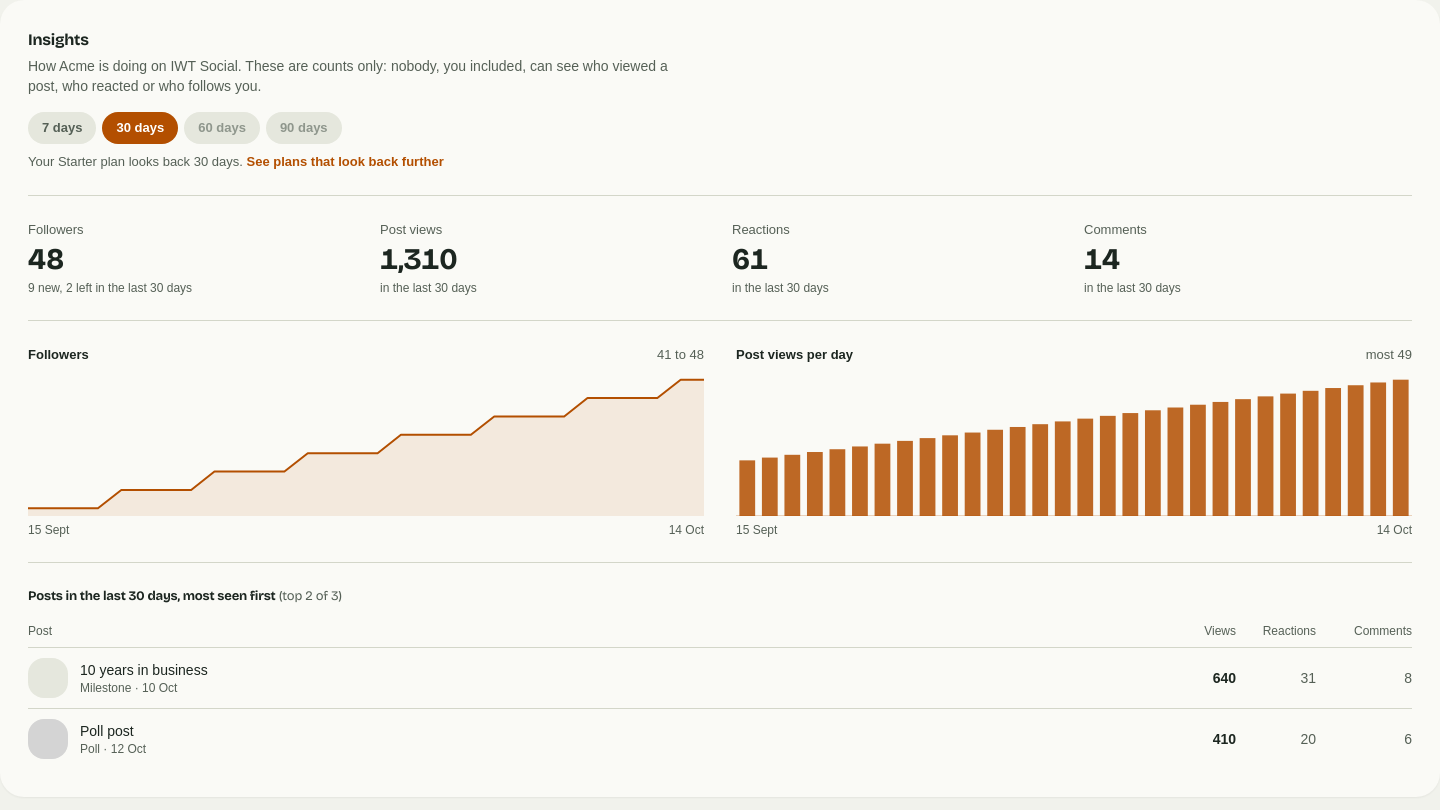
SocialInsightsPanel › reads another period when one the plan covers is picked
expect the text "1,310" is shown: met, box [380, 240, 457, 276]
What coordinates should you click on to do the following:
click the radio button labelled "7 days"
I would click on:
 (62, 128)
Its box is [28, 112, 96, 144].
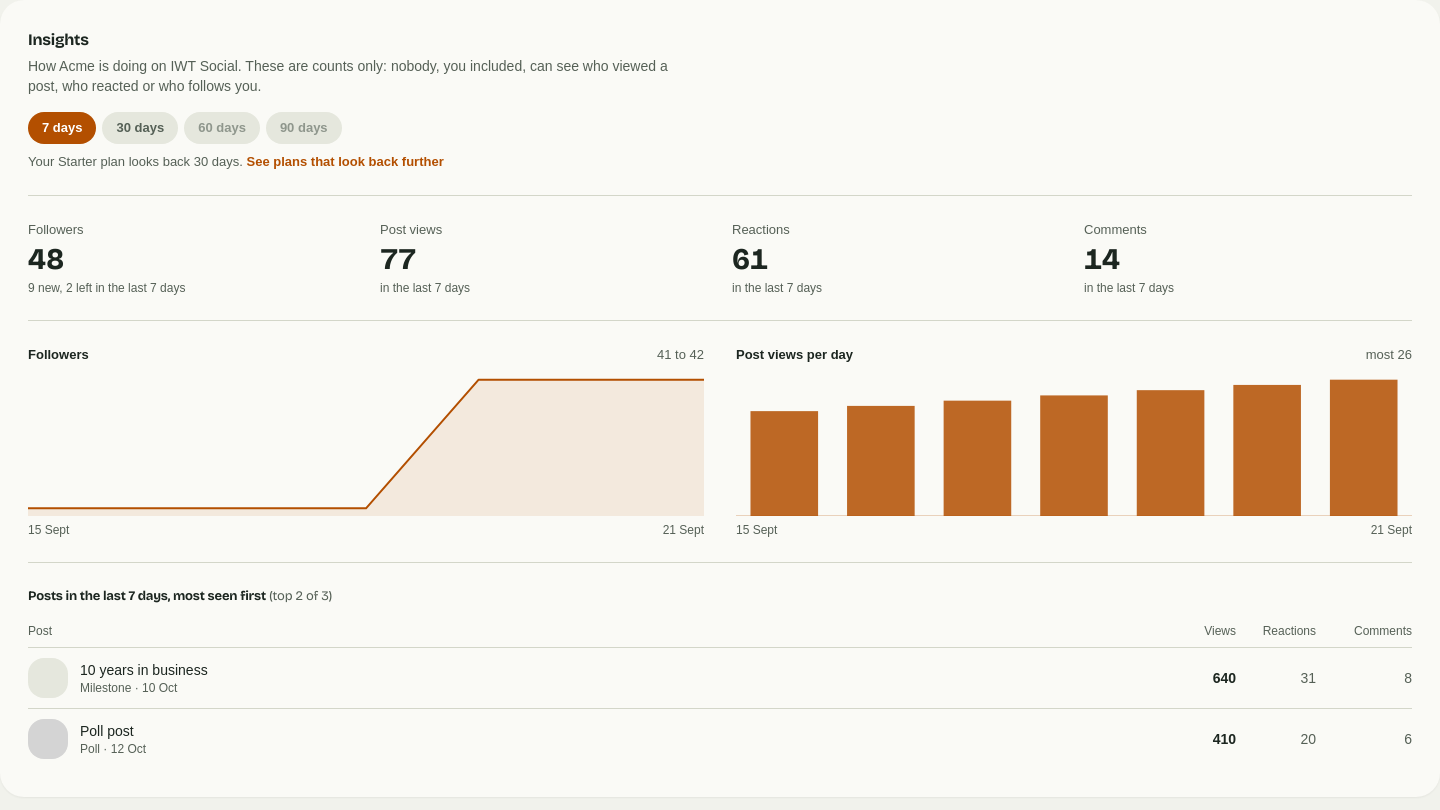
expect the text "77" is shown: met, box [380, 240, 416, 276]
